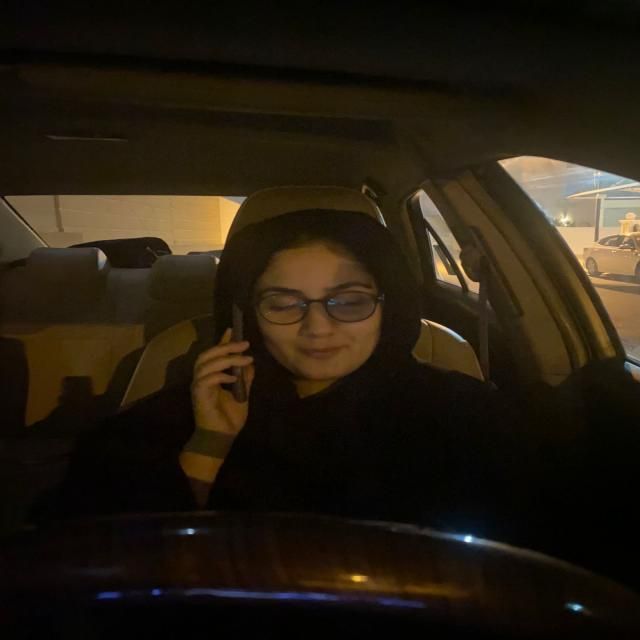mobile: (226, 304, 263, 401)
person: (251, 220, 393, 375)
